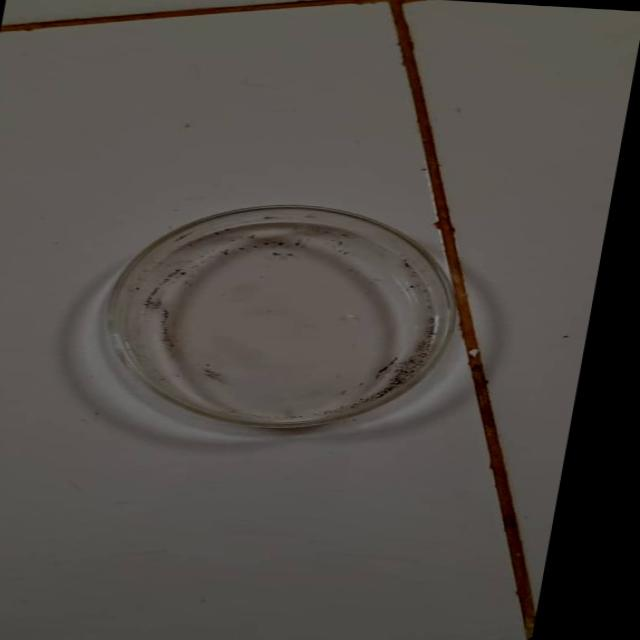Pedrish: (70, 184, 480, 443)
